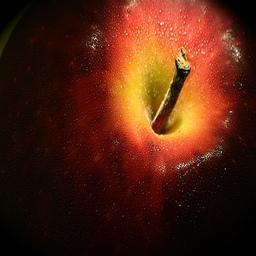apple: (0, 1, 253, 253)
